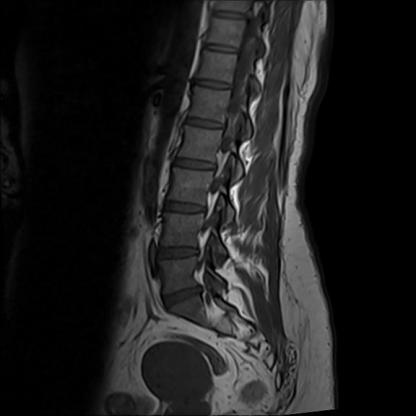Degenerative Disc Diseaserotation: (163, 286, 207, 305)
Disc Herniationrotation: (162, 285, 206, 304)
